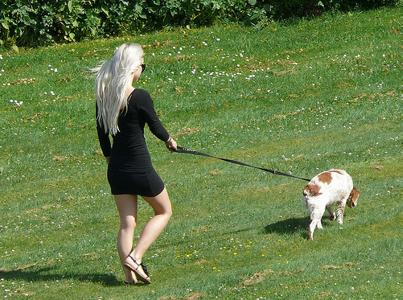person: (96, 43, 179, 287)
